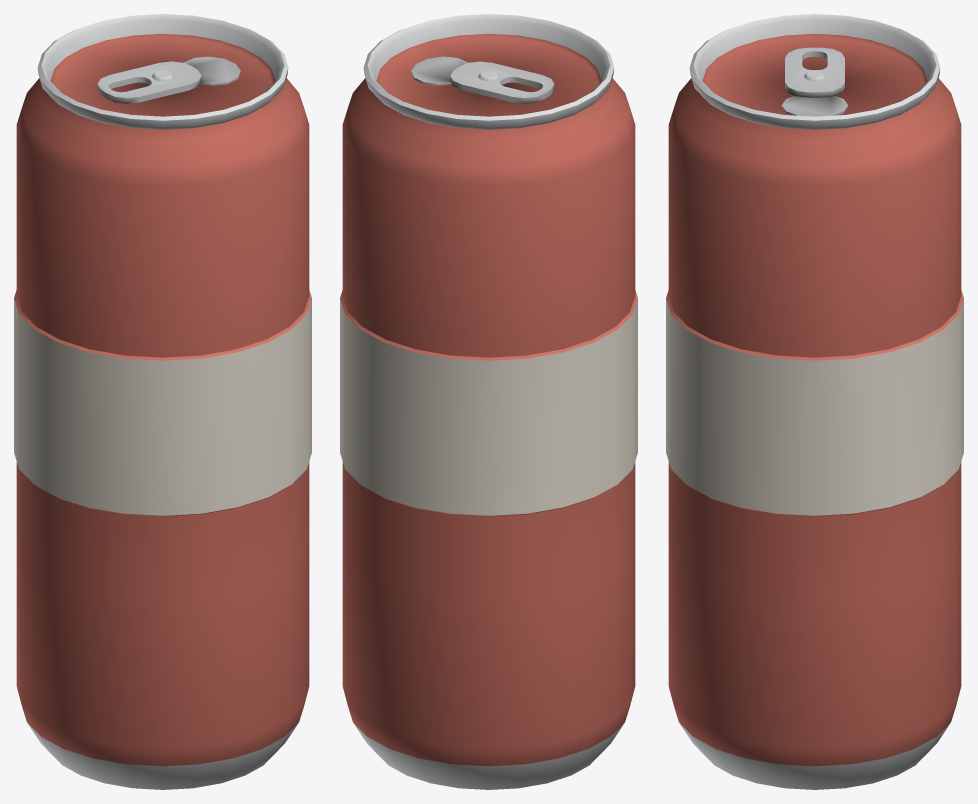
File: drink_energy.glb
The picture shows the model from 3 angles, left to right: view 1: azimuth 30°, elevation 25°; view 2: azimuth 150°, elevation 25°; view 3: azimuth 270°, elevation 25°; orthographic projection.
Visible parts, largest first — view 1: PART; view 2: PART; view 3: PART.
Part boxes in pixels (bbox=[...]): PART: bbox=[14, 14, 311, 789]; PART: bbox=[340, 14, 637, 789]; PART: bbox=[666, 14, 963, 789].
Size of the model in its own units: 0.0672 by 0.1682 by 0.0672.
